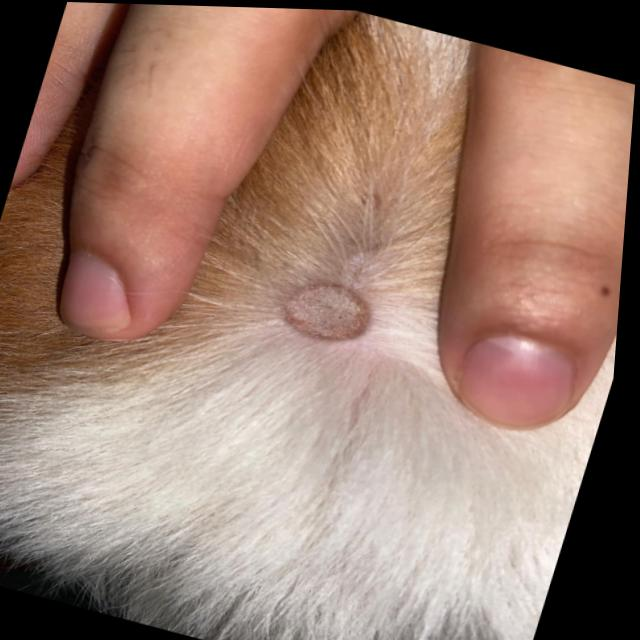ringworm: (237, 230, 415, 382)
